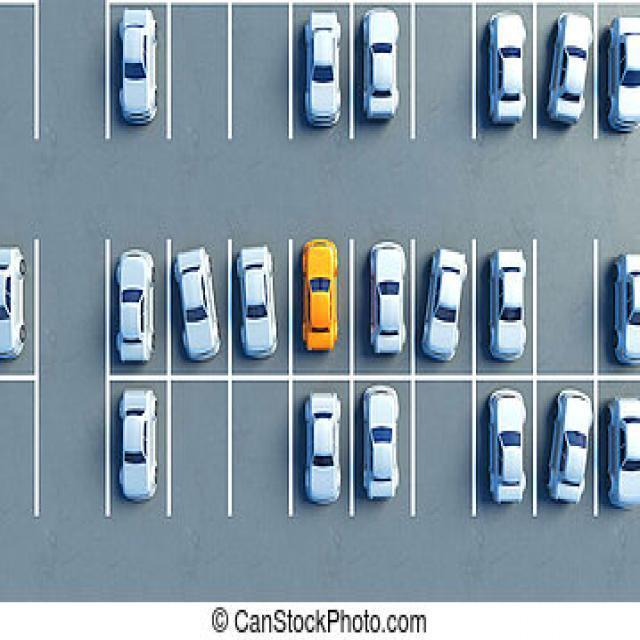car: (100, 375, 178, 527), (466, 373, 540, 523), (351, 373, 419, 532), (469, 2, 541, 149), (408, 233, 477, 385), (350, 1, 418, 151), (533, 1, 603, 146), (226, 238, 294, 387), (288, 2, 356, 151), (289, 240, 357, 386), (104, 241, 172, 382), (471, 241, 540, 379), (167, 238, 233, 377)
free: (33, 0, 116, 147), (407, 373, 483, 529), (224, 0, 298, 151), (165, 374, 235, 528), (410, 0, 477, 152), (165, 4, 234, 148), (532, 240, 599, 380), (230, 380, 295, 520)
